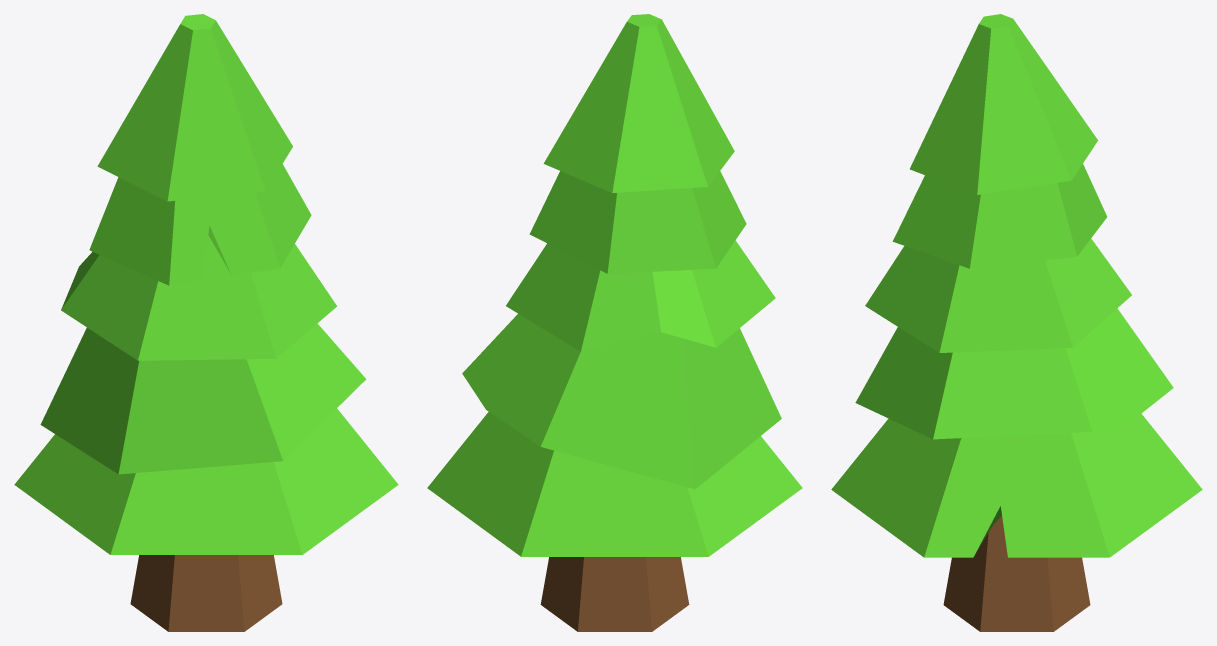
File: tree_model.glb
3 renders of one model, left to right at view 1: azimuth 30°, elevation 25°; view 2: azimuth 150°, elevation 25°; view 3: azimuth 270°, elevation 25°, orthographic. The views are drawn at different scales.
Parts seen in each view (by area): view 1: Cylinder; view 2: Cylinder; view 3: Cylinder.
Boxes of the visible parts, left/top/right/bottom form: Cylinder: left=14, top=14, right=398, bottom=631; Cylinder: left=427, top=14, right=802, bottom=631; Cylinder: left=831, top=14, right=1202, bottom=631.
Size of the model in its own units: 2.98 by 5.89 by 3.44.
